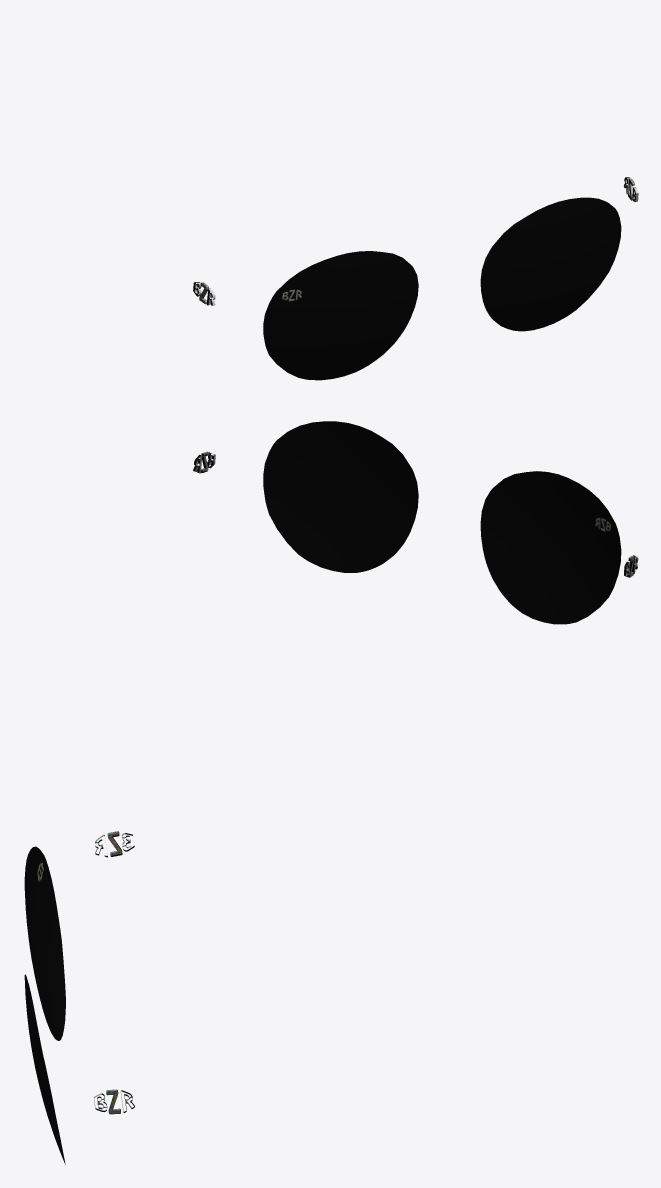
Rendered from glasses02.gltf.
3 views of the same model, one above another, from view 1: azimuth 30°, elevation 25°; view 2: azimuth 150°, elevation 25°; view 3: azimuth 270°, elevation 25° (orthographic). The views are drawn at different scales.
Parts seen in each view (by area): view 1: BZR_Classic_Black_Lens, BZR_Classic_Black_Frame; view 2: BZR_Classic_Black_Lens, BZR_Classic_Black_Frame; view 3: BZR_Classic_Black_Lens, BZR_Classic_Black_Frame.
Boxes of the visible parts, box(x1,y1,x2,y2) form: BZR_Classic_Black_Lens: box(263, 197, 621, 380); BZR_Classic_Black_Frame: box(193, 177, 638, 305); BZR_Classic_Black_Lens: box(263, 421, 621, 624); BZR_Classic_Black_Frame: box(193, 451, 638, 577); BZR_Classic_Black_Lens: box(24, 846, 65, 1164); BZR_Classic_Black_Frame: box(94, 831, 134, 1114).
Bounding box in the file's own units: 17.3 × 5.14 × 15.98.
Materials: 2 (2 with a texture image).
